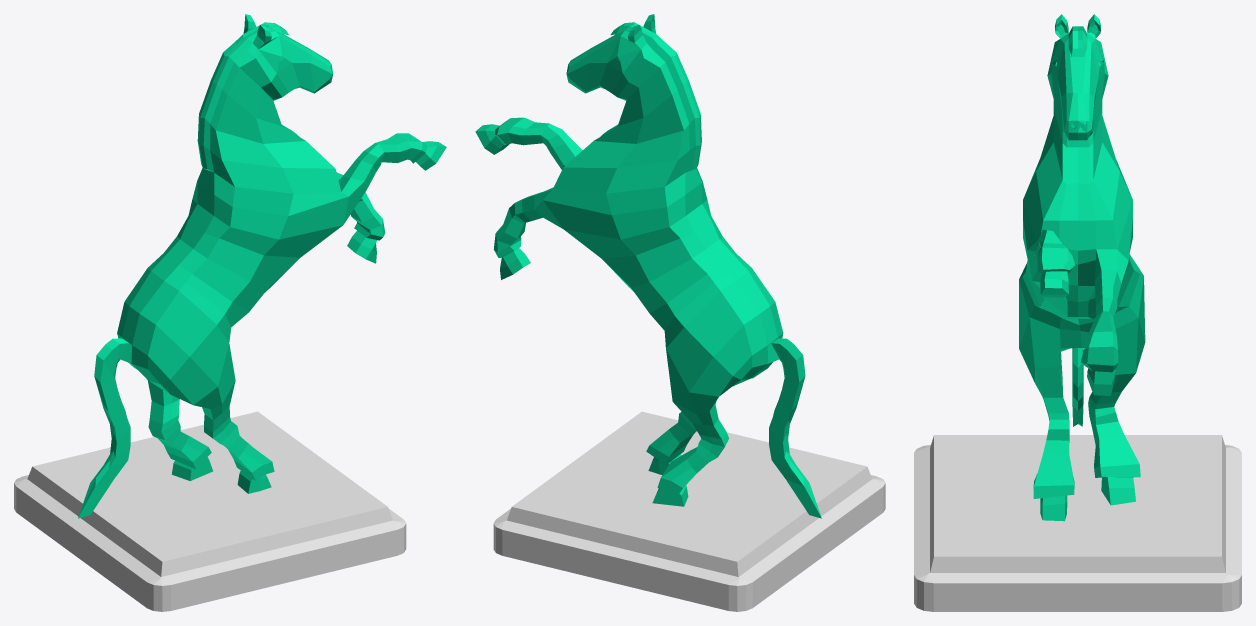
File: Statue.fbx
3 renders of one model, left to right at view 1: azimuth 30°, elevation 25°; view 2: azimuth 150°, elevation 25°; view 3: azimuth 270°, elevation 25°, orthographic. The views are drawn at different scales.
Parts seen in each view (by area): view 1: HorseFinal, Platform; view 2: HorseFinal, Platform; view 3: Platform, HorseFinal.
Boxes of the visible parts, x1,y1,x2,y2 form: HorseFinal: (78, 14, 446, 518); Platform: (14, 411, 406, 611); HorseFinal: (475, 14, 821, 518); Platform: (493, 411, 885, 611); Platform: (914, 435, 1241, 611); HorseFinal: (1019, 14, 1145, 521).
Size of the model in its own units: 276 by 371 by 200.
